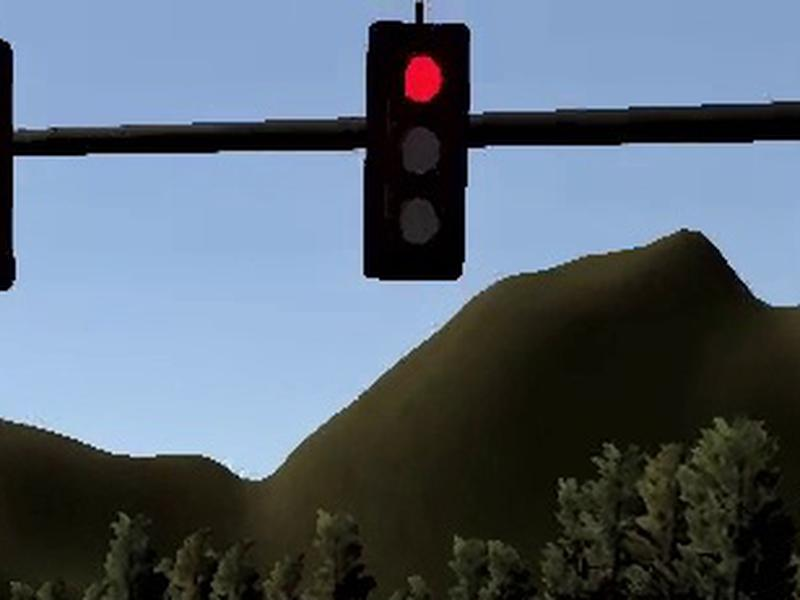Red: (375, 23, 464, 280)
